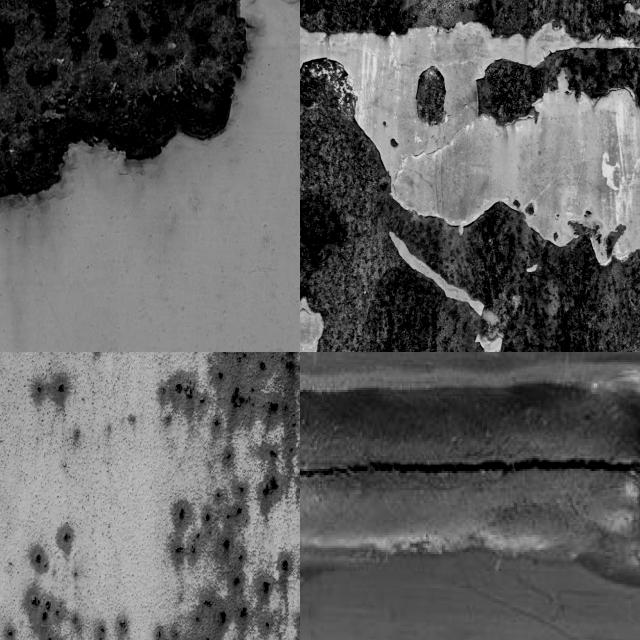Crack: (300, 458, 637, 475)
Pitting Corrosion: (300, 60, 640, 352), (153, 352, 300, 640), (477, 48, 640, 125), (416, 66, 446, 126), (31, 373, 70, 408), (56, 522, 74, 558)
